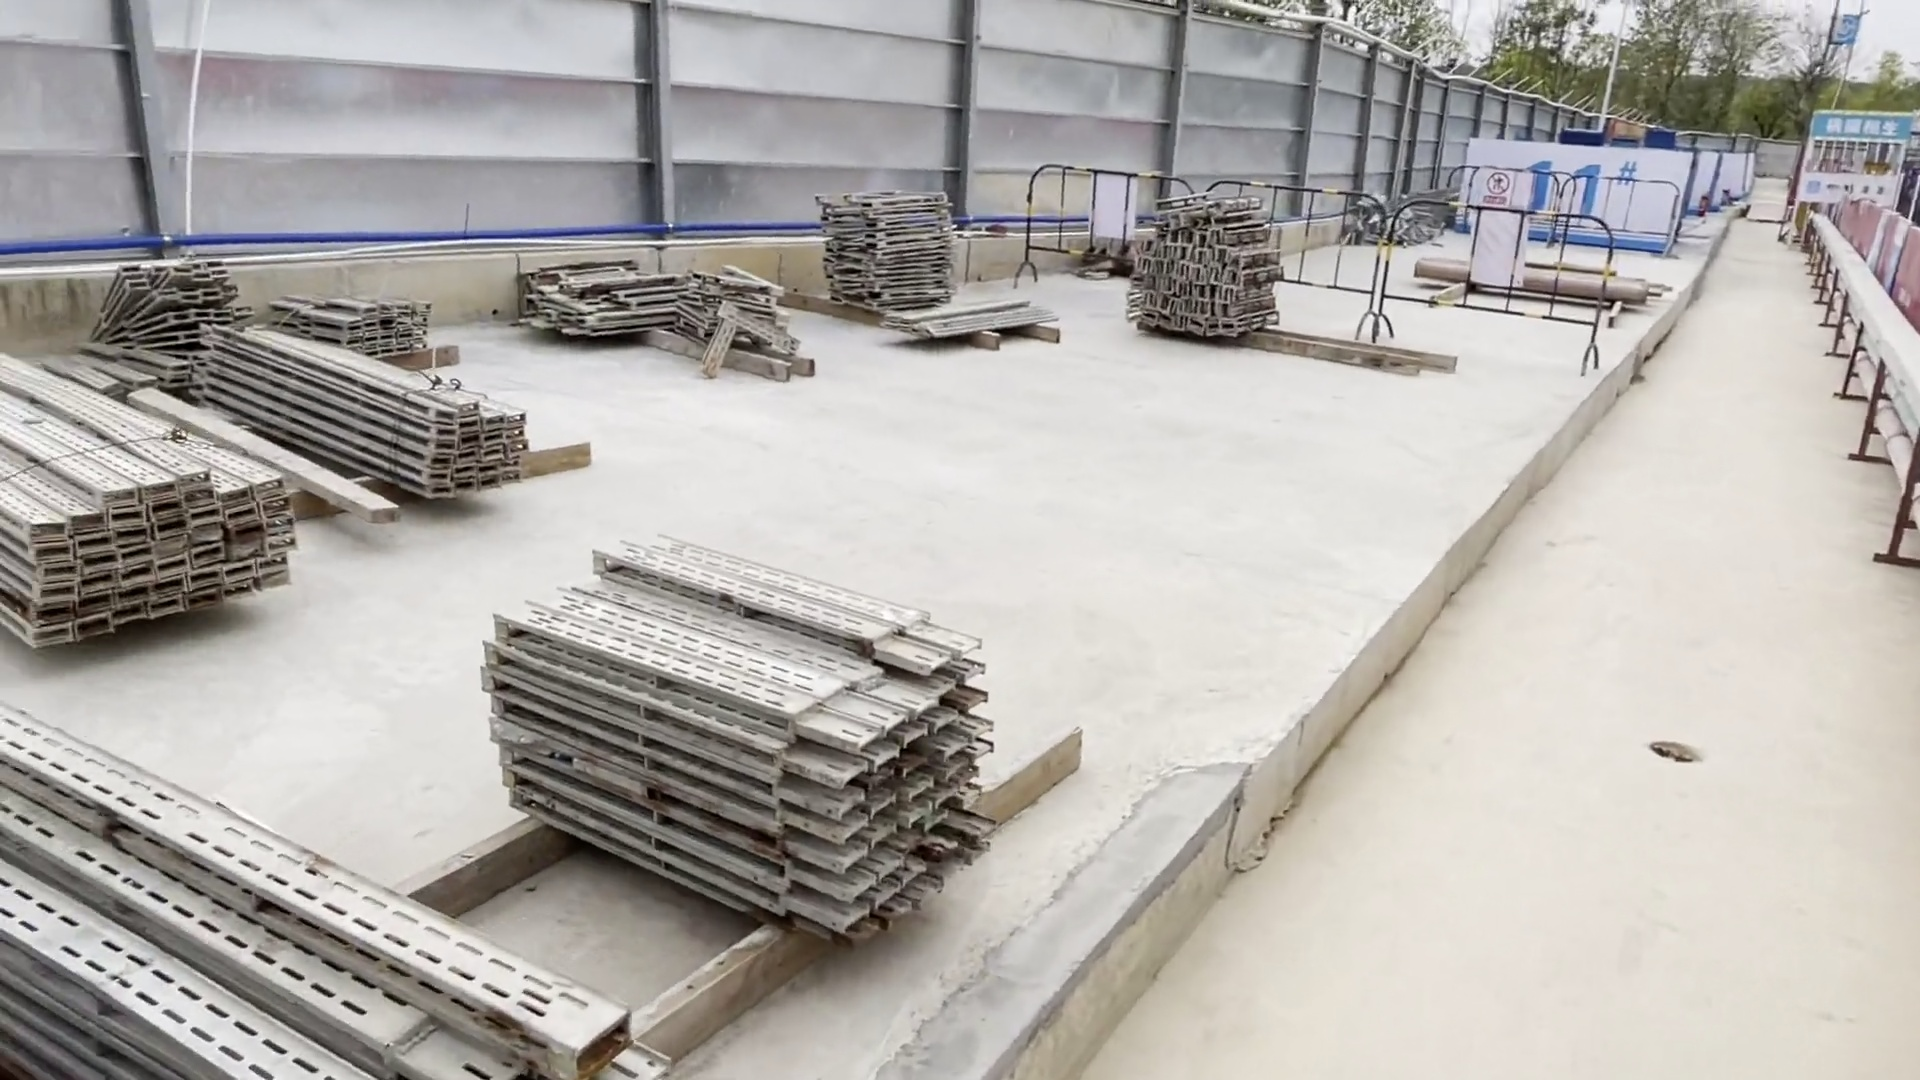fence: (1280, 185, 1617, 378), (1009, 161, 1133, 287)
